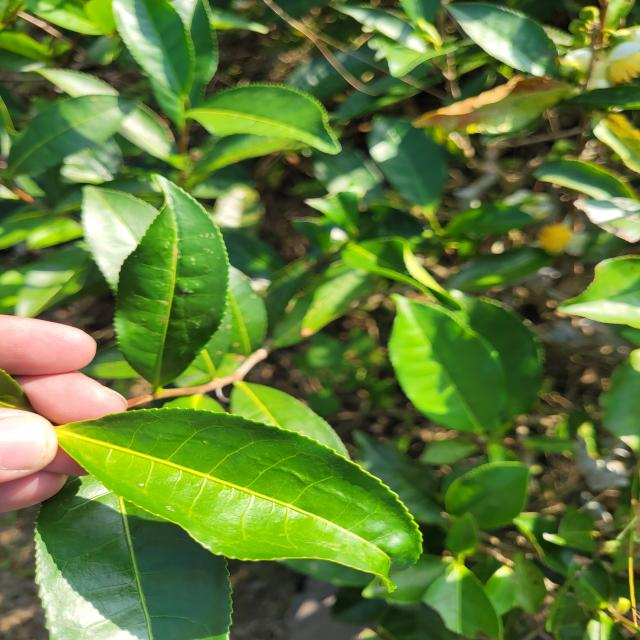Category D 7+ days, Not for Tea: (45, 375, 434, 610)
